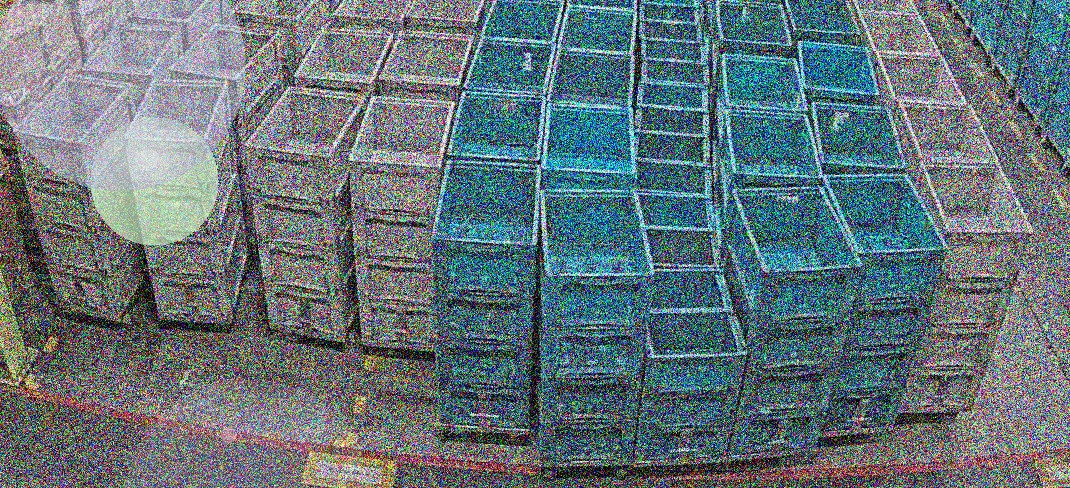4G: (898, 160, 1034, 414), (13, 74, 147, 317), (245, 86, 366, 342), (123, 79, 248, 324), (348, 96, 455, 352)
B4: (728, 179, 859, 456), (821, 173, 949, 432), (540, 189, 655, 464), (431, 160, 541, 429)
B8: (634, 268, 748, 461)
